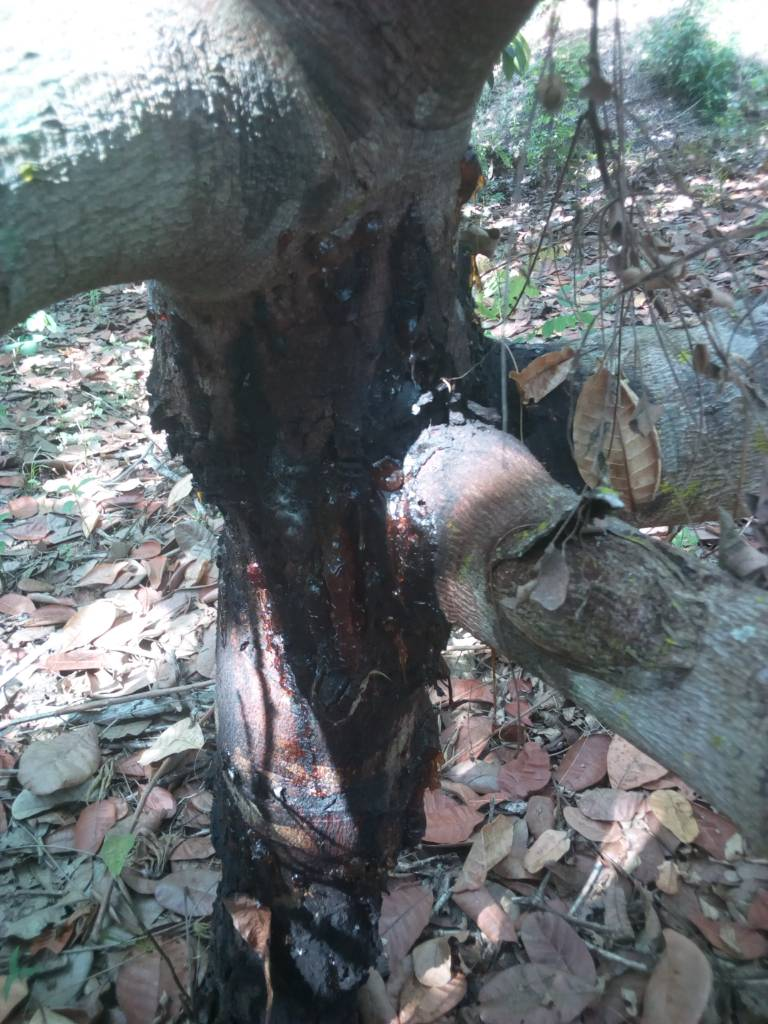Gommose: (265, 216, 452, 863)
